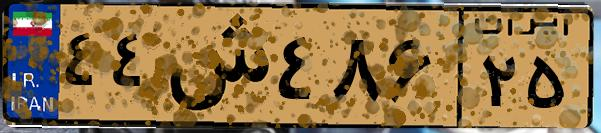2: (475, 38, 525, 113)
4: (270, 28, 330, 110), (57, 26, 110, 100), (110, 28, 158, 98)
5: (525, 38, 570, 115)
6: (385, 28, 445, 110)
8: (330, 28, 385, 110)
ش: (158, 12, 270, 120)
